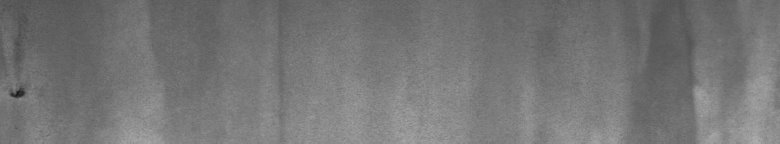fi: (4, 32, 34, 105)
